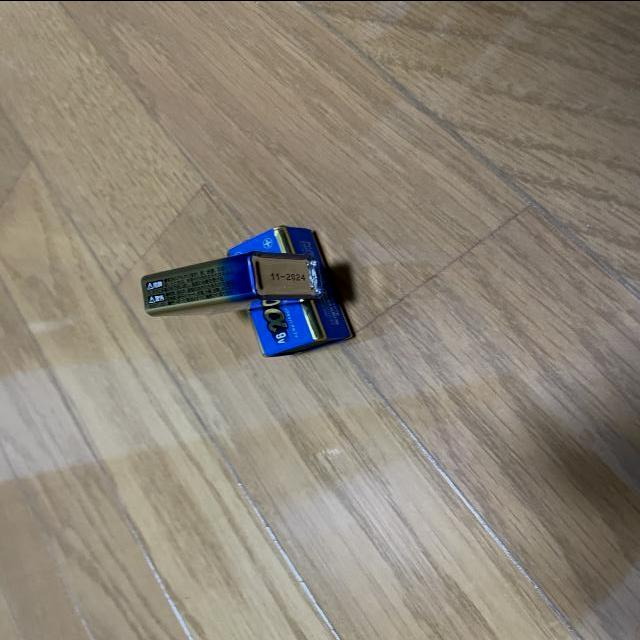9V: (226, 224, 355, 356), (140, 239, 330, 317)
